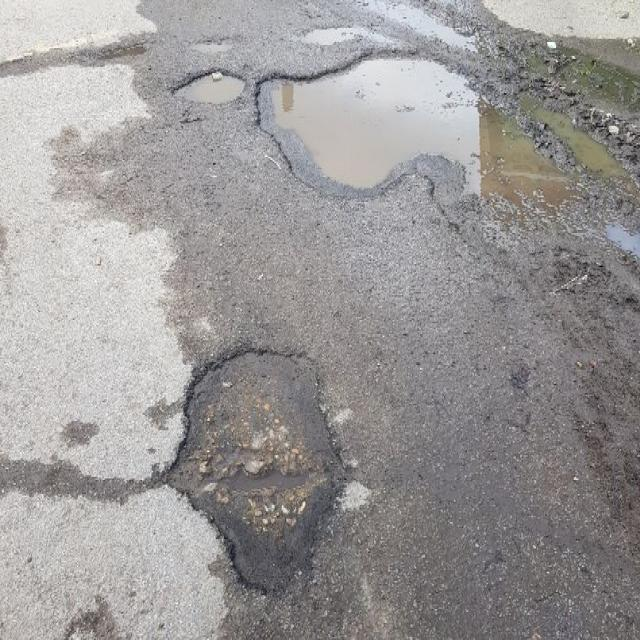pothole: (252, 42, 582, 238), (163, 332, 356, 609), (168, 58, 250, 109)
